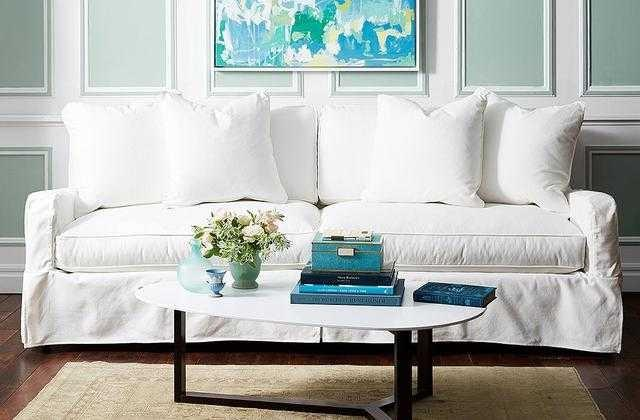pillow: (51, 100, 285, 212), (472, 86, 586, 210), (376, 89, 488, 213)
